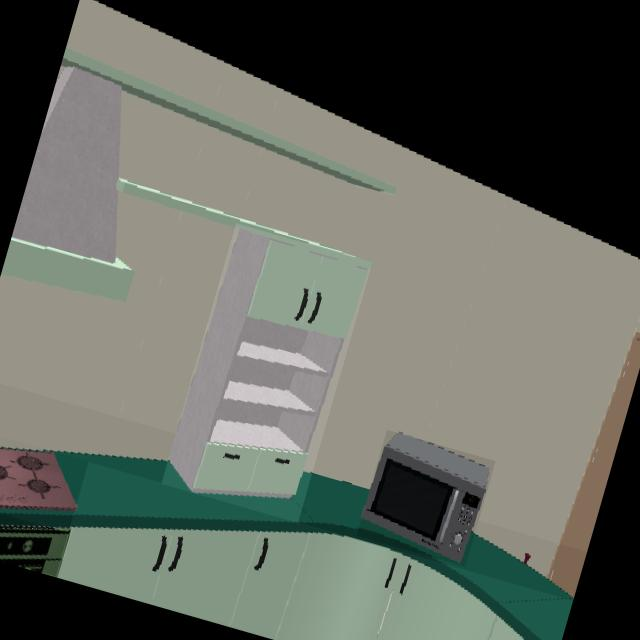cabinet: (168, 228, 371, 500), (55, 528, 527, 640)
countertop: (0, 451, 572, 640)
microwave: (360, 434, 489, 563)
oven: (0, 523, 68, 574)
stove: (0, 447, 76, 517)
